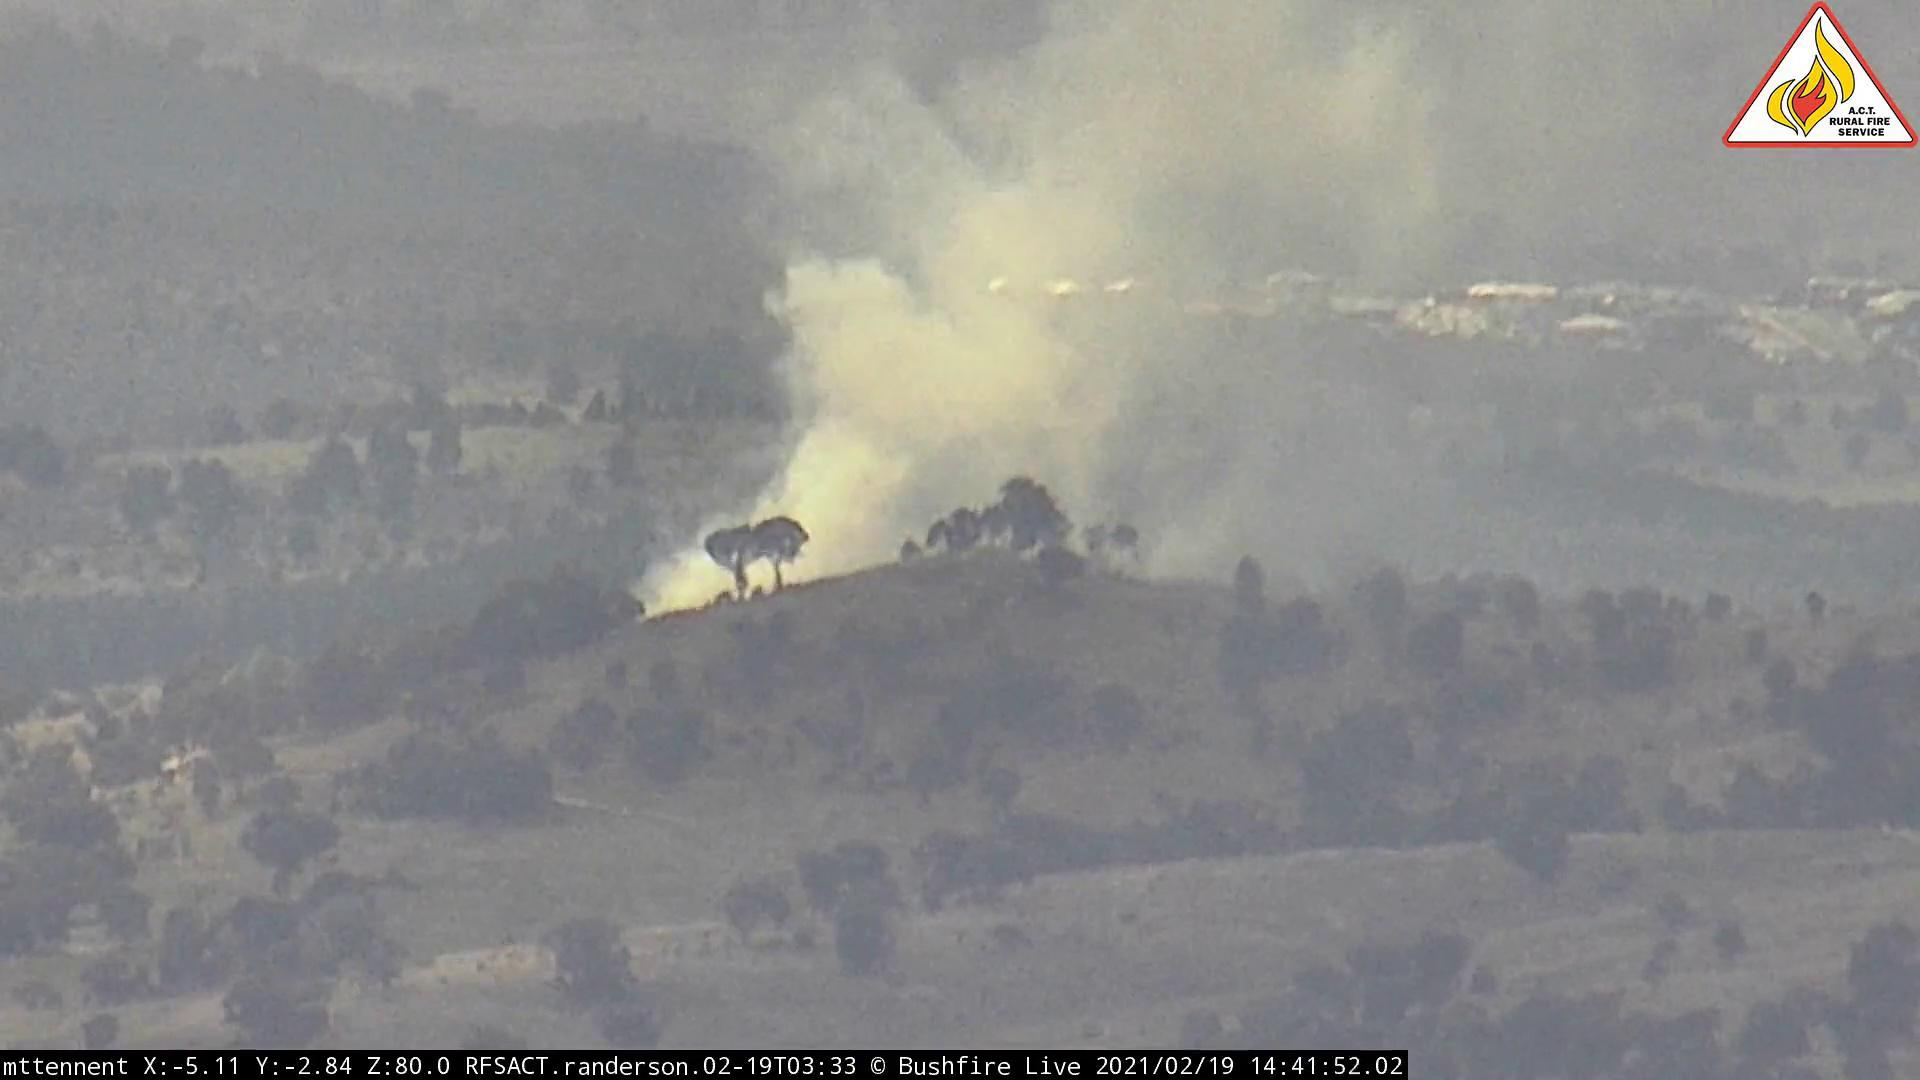Smoke: (596, 9, 1416, 625)
